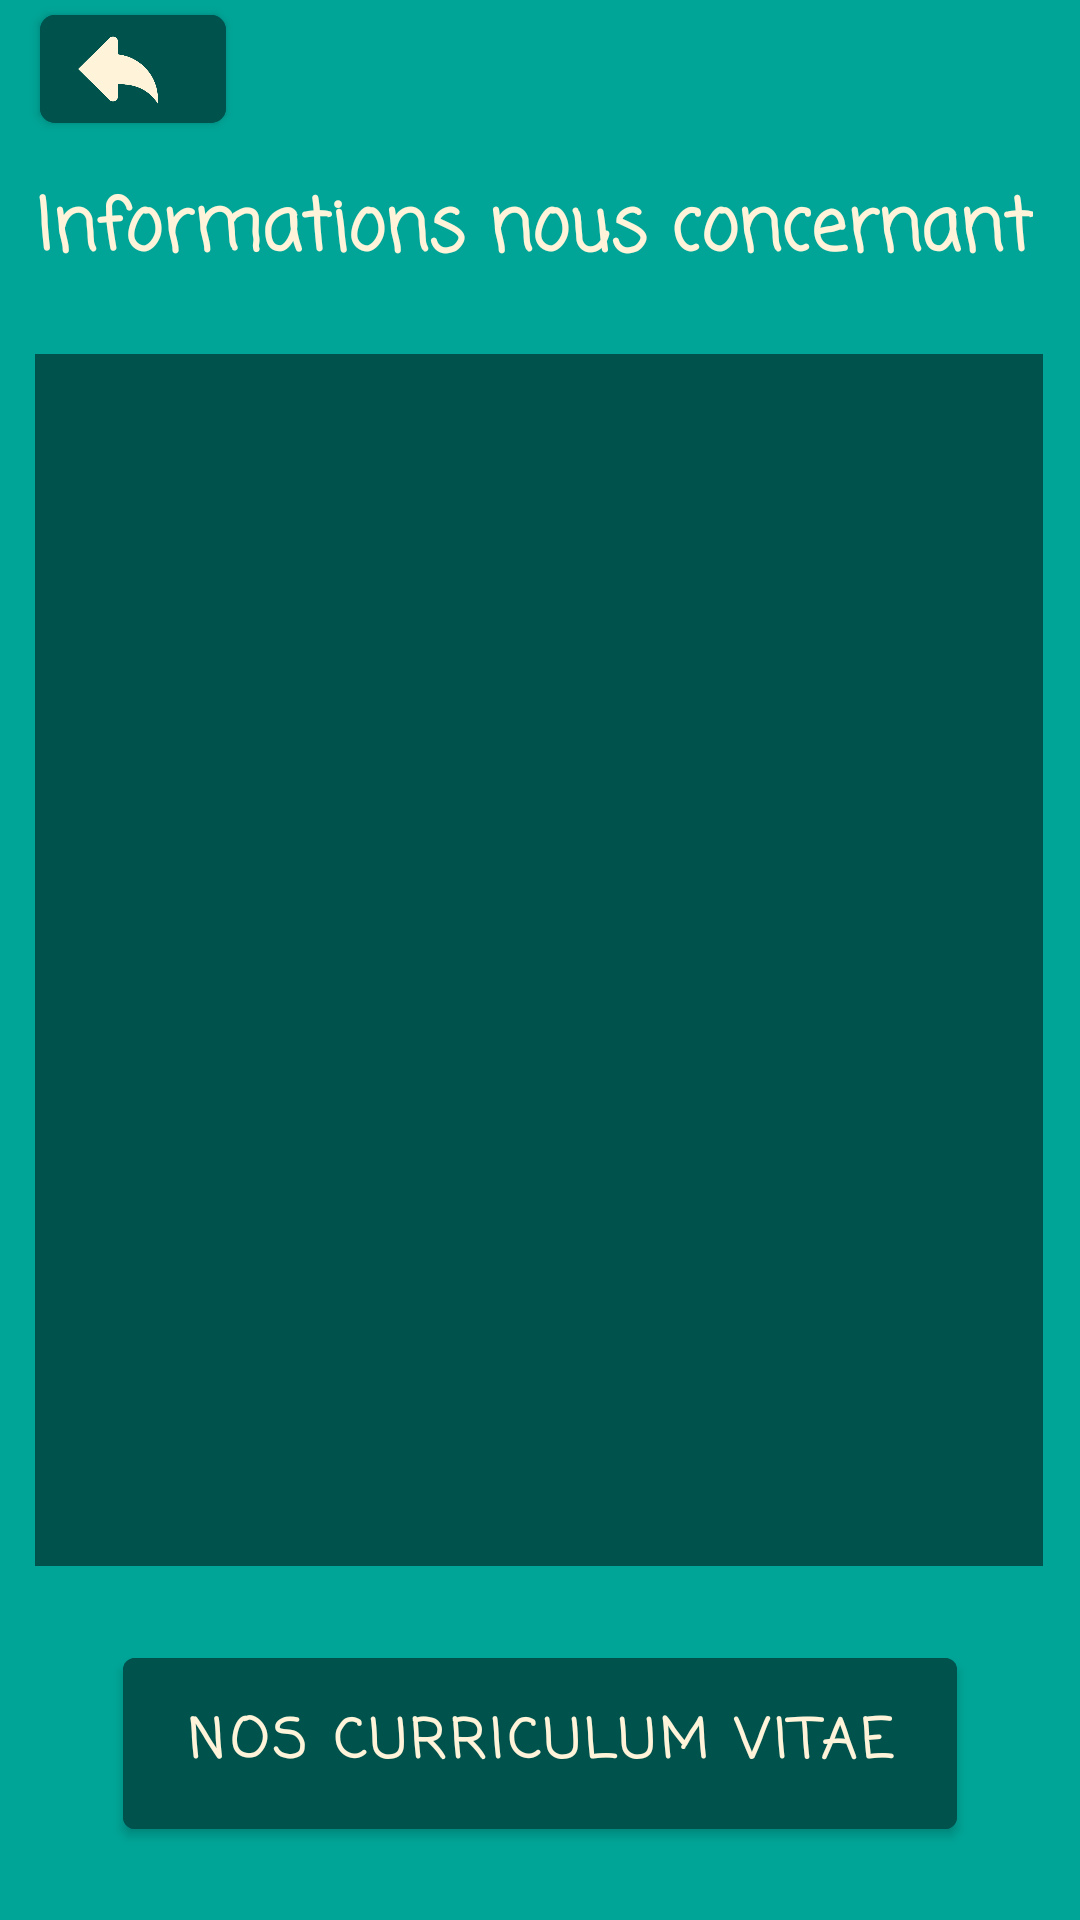

Icon bounding boxes for this 1080 x 1920 phone screenshot, format [x1,y1,x2,y2]:
fleche: [40,15,226,123]
